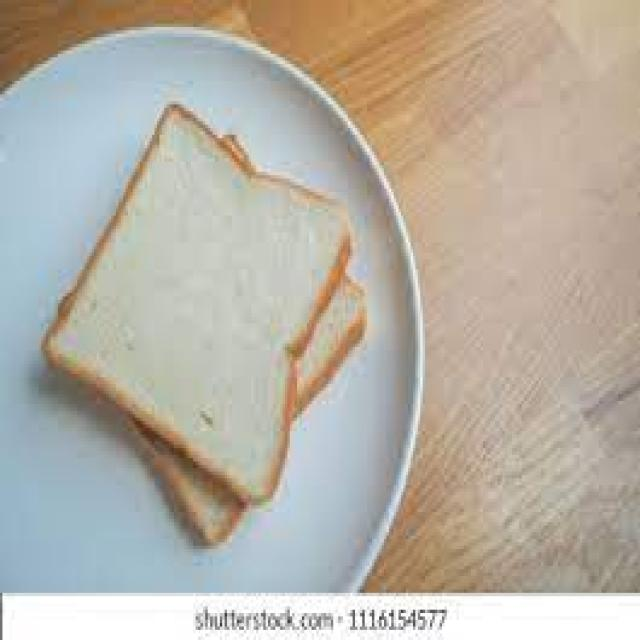Bread: (42, 105, 366, 543)
